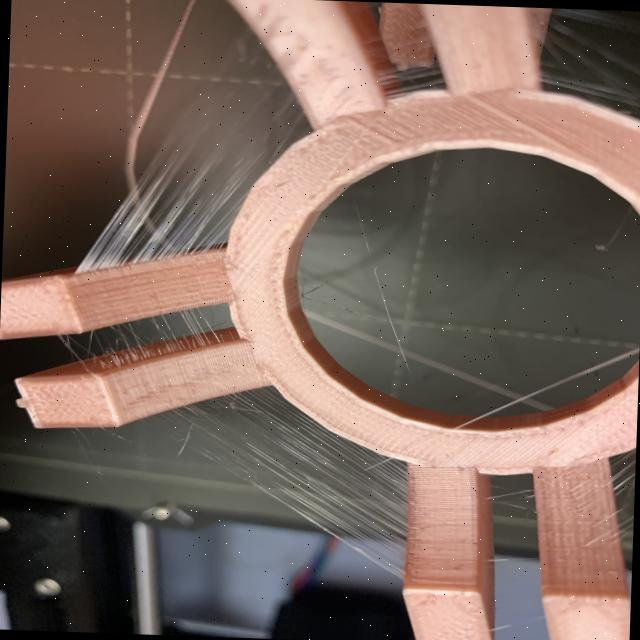stringing: (124, 382, 449, 580), (75, 34, 322, 285), (64, 296, 233, 378)
